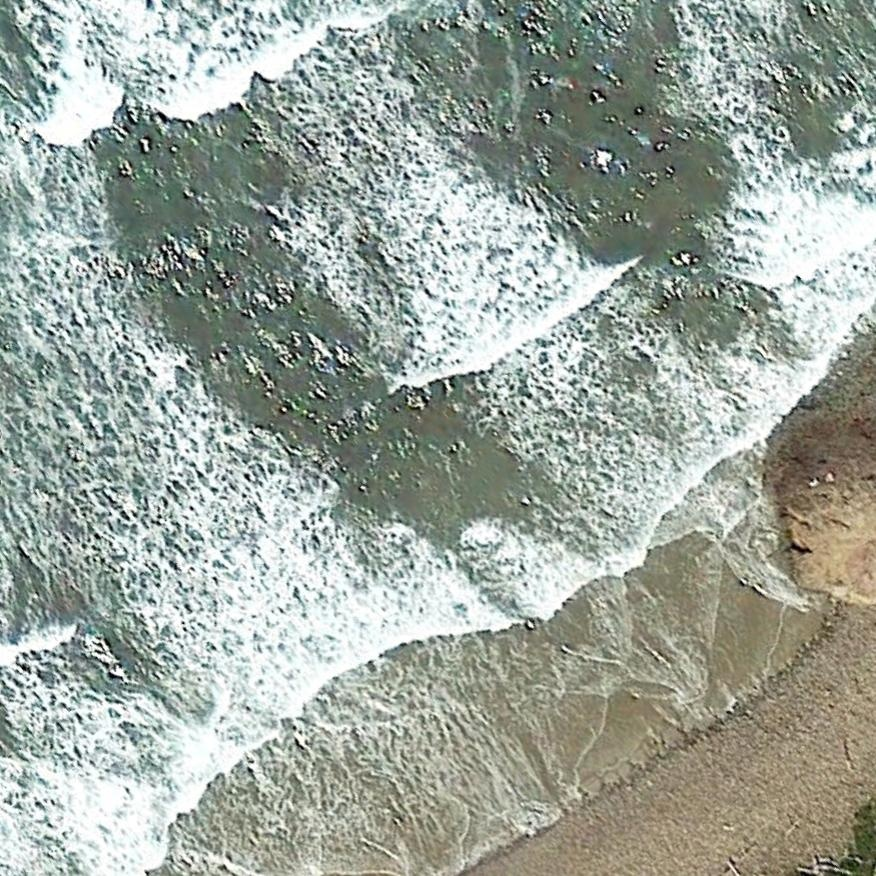rip_current: (77, 102, 560, 622)
